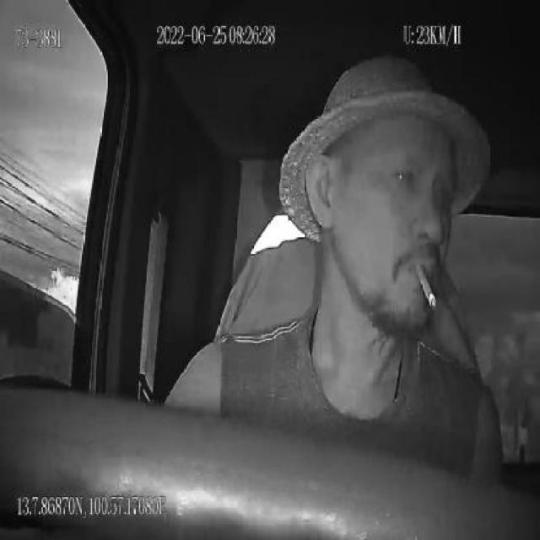smoking: (416, 260, 435, 307)
